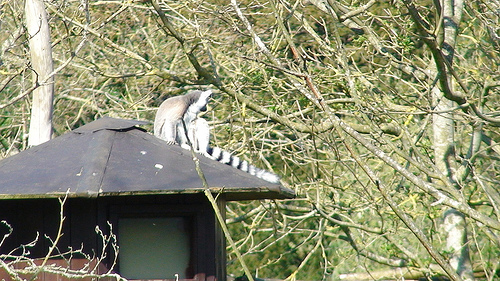cat: (150, 83, 282, 188)
